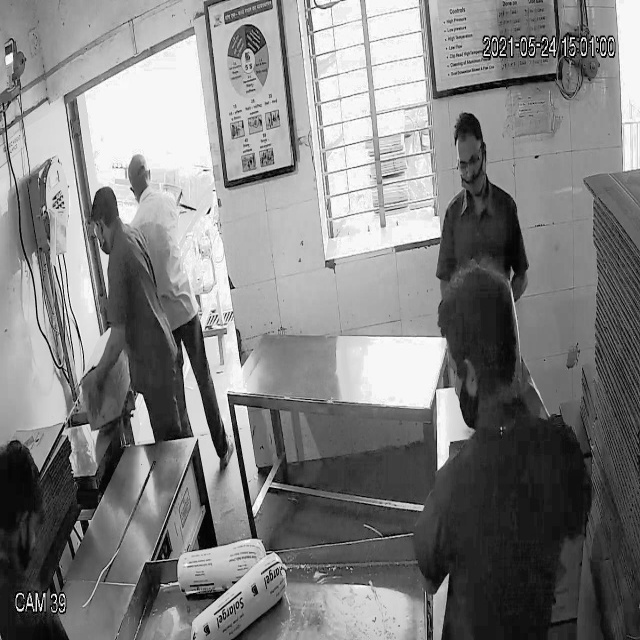Gafas: (454, 150, 489, 178)
